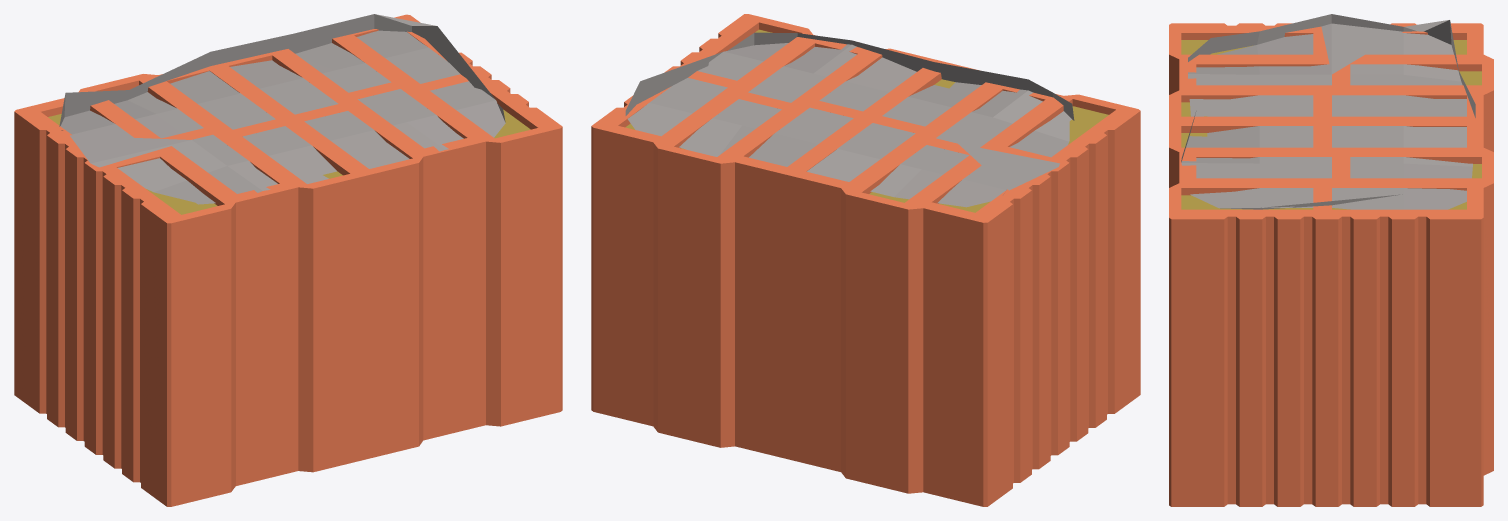
The picture shows the model from 3 angles, left to right: view 1: azimuth 30°, elevation 25°; view 2: azimuth 150°, elevation 25°; view 3: azimuth 270°, elevation 25°; orthographic projection.
Parts seen in each view (by area): view 1: Außenziegel template.002, mörtel; view 2: Außenziegel template.002, mörtel; view 3: Außenziegel template.002, mörtel.
Part boxes in pixels (box(x1,y1,x2,y2)): Außenziegel template.002: box(14, 14, 562, 506); mörtel: box(59, 14, 505, 204); Außenziegel template.002: box(591, 14, 1140, 506); mörtel: box(625, 32, 1074, 207); Außenziegel template.002: box(1169, 23, 1493, 506); mörtel: box(1181, 14, 1475, 209).
Bounding box in the file's own units: 0.365 × 0.27 × 0.2559.
